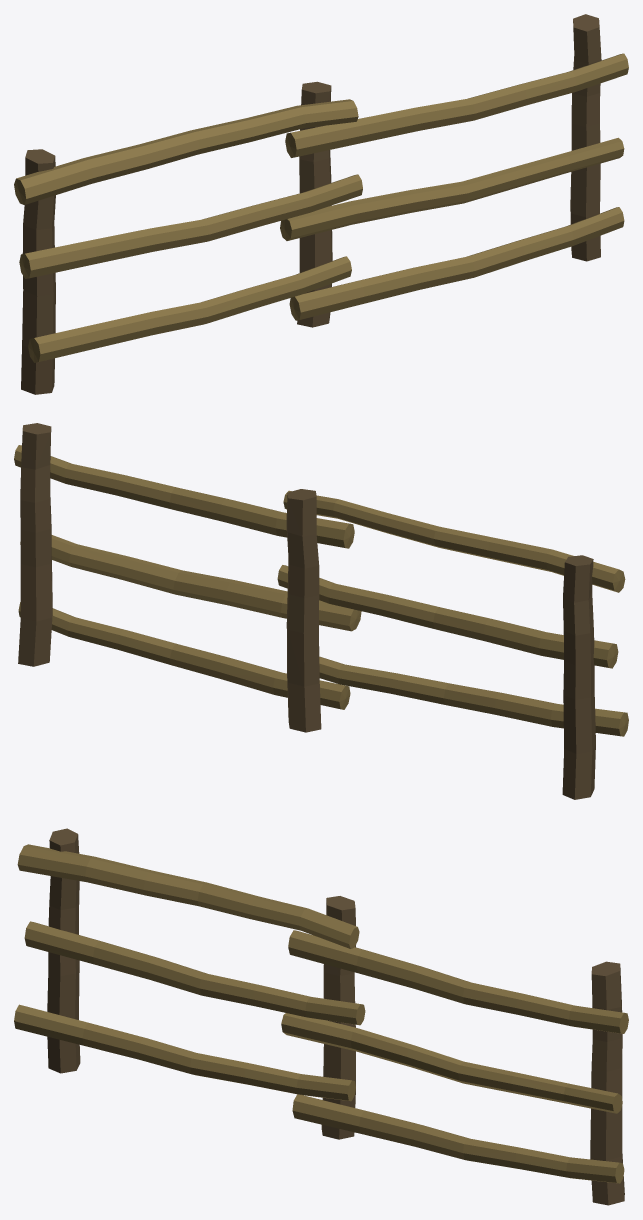
File: FenceEnd.fbx
3 views of the same model, one above another, from view 1: azimuth 30°, elevation 25°; view 2: azimuth 150°, elevation 25°; view 3: azimuth 330°, elevation 25° (orthographic).
Parts seen in each view (by area): view 1: polySurface6; view 2: polySurface6; view 3: polySurface6.
Part boxes in pixels (x1,y1,x2,y2): polySurface6: (14, 14, 628, 394); polySurface6: (14, 423, 628, 799); polySurface6: (14, 828, 628, 1205).
Size of the model in its own units: 45.3 by 16.7 by 4.65.
